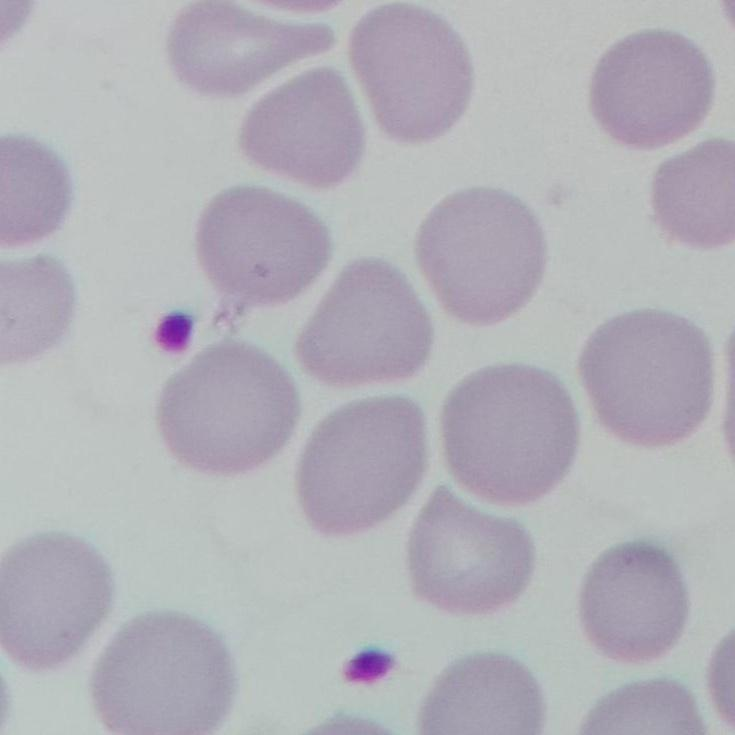Uninfected: (294, 395, 428, 536), (441, 367, 580, 501), (89, 609, 236, 735), (347, 2, 473, 146), (160, 343, 300, 472), (584, 309, 713, 448), (404, 485, 537, 617), (294, 260, 432, 387), (417, 187, 548, 320), (167, 0, 337, 99), (196, 187, 329, 305), (0, 530, 107, 666), (593, 29, 716, 147), (578, 540, 689, 663), (240, 76, 363, 185), (413, 655, 543, 735), (651, 140, 735, 248)
